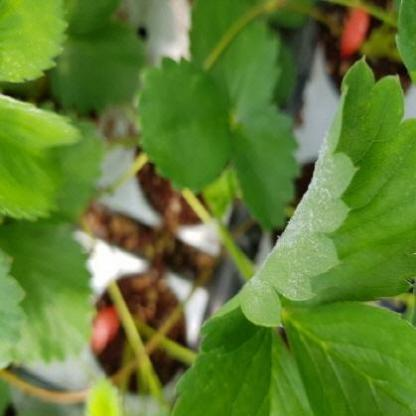Strawberry_Powdery_Mildew_Leaf: (198, 52, 416, 356)
